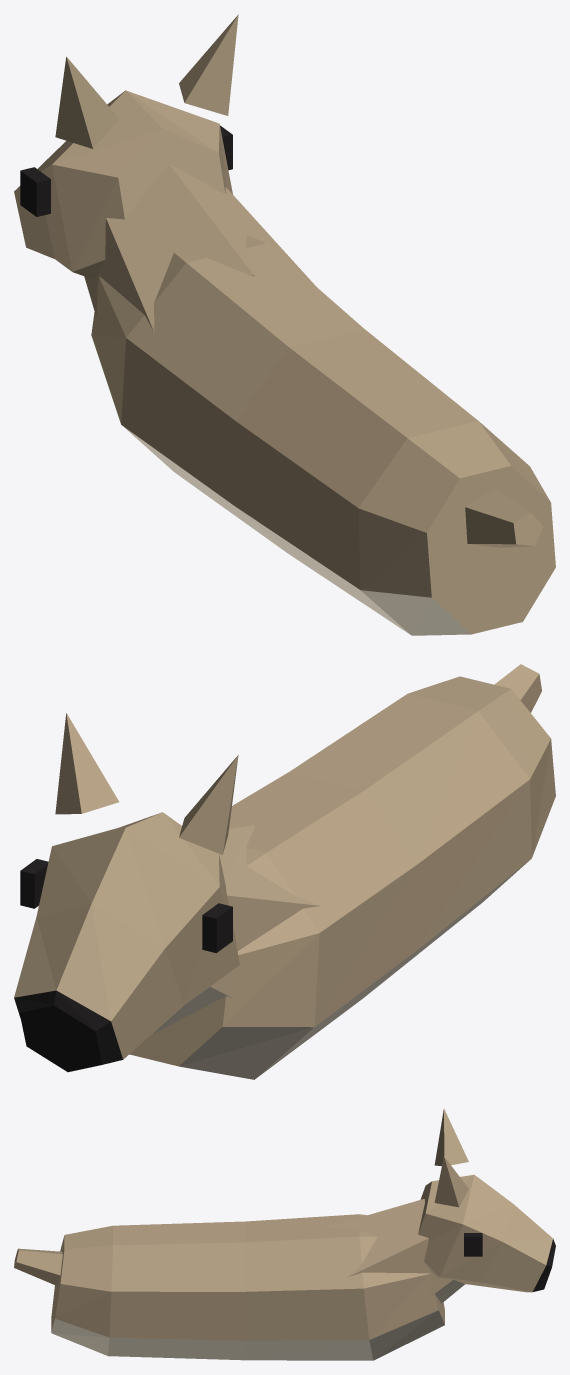
Rendered from animal_lynx.obj.
3 renders of one model, top to bottom at view 1: azimuth 30°, elevation 25°; view 2: azimuth 150°, elevation 25°; view 3: azimuth 270°, elevation 25°, orthographic. The views are drawn at different scales.
Parts seen in each view (by area): view 1: animal_lynx; view 2: animal_lynx; view 3: animal_lynx.
Boxes of the visible parts, x1,y1,x2,y2 form: animal_lynx: (14,14,555,635); animal_lynx: (14,664,555,1079); animal_lynx: (14,1109,555,1360).
Bounding box in the file's own units: 0.2194 × 0.4084 × 0.9214.
